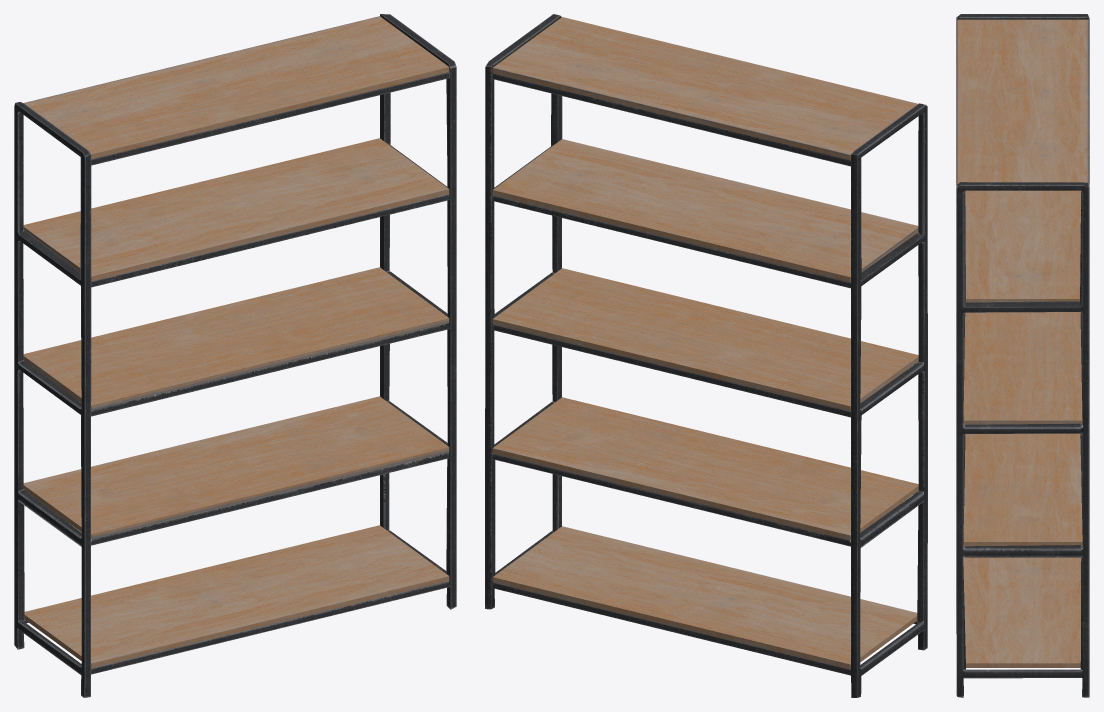
Rendered from SM_Shelves_Shelves.glb.
3 views of the same model, side by side, from view 1: azimuth 30°, elevation 25°; view 2: azimuth 150°, elevation 25°; view 3: azimuth 270°, elevation 25° (orthographic). The views are drawn at different scales.
Parts seen in each view (by area): view 1: SM_Shelves_Shelves; view 2: SM_Shelves_Shelves; view 3: SM_Shelves_Shelves.
Part boxes in pixels (left/top/right/bottom): SM_Shelves_Shelves: left=14, top=14, right=456, bottom=697; SM_Shelves_Shelves: left=485, top=14, right=927, bottom=697; SM_Shelves_Shelves: left=956, top=14, right=1089, bottom=697.
Size of the model in its own units: 1.53 by 2.14 by 0.5036.
Materials: 1 (1 with a texture image).
